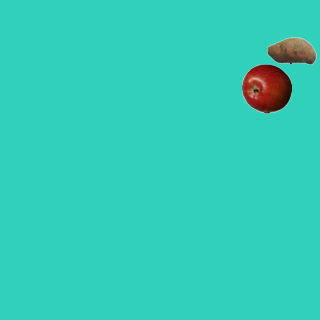Apple Braeburn: (241, 63, 291, 113)
Potato Sweet: (266, 25, 316, 75)
